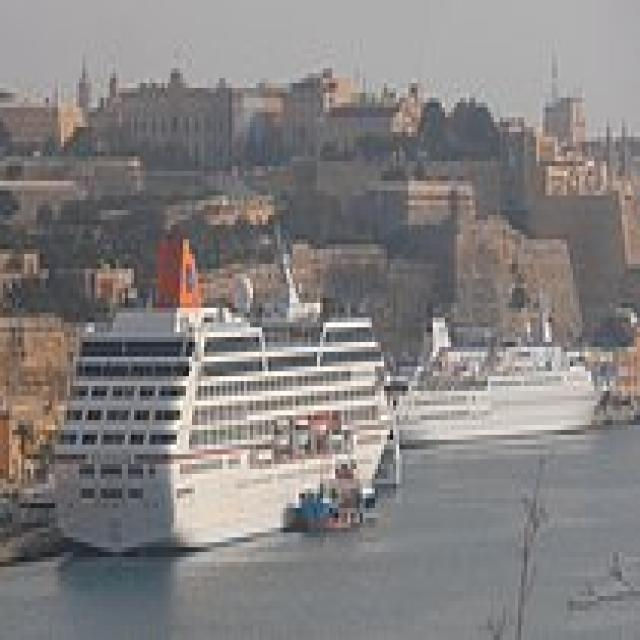Ship: (47, 231, 410, 563), (376, 304, 614, 461)
